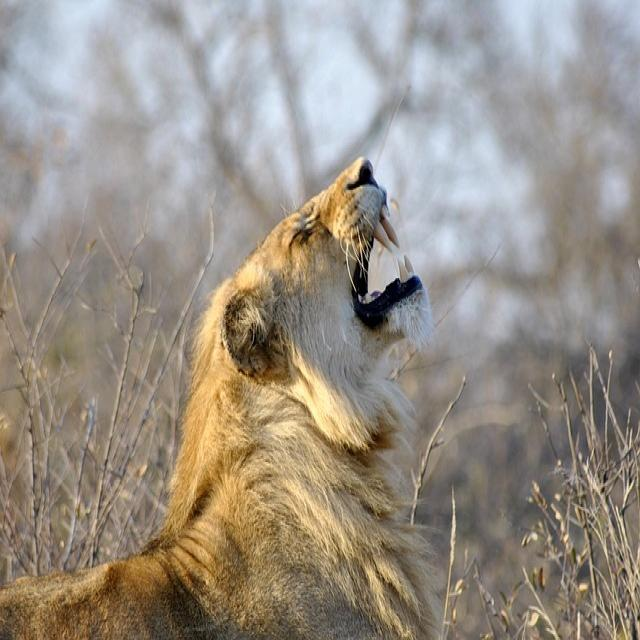Carnivorous: (0, 159, 464, 640)
